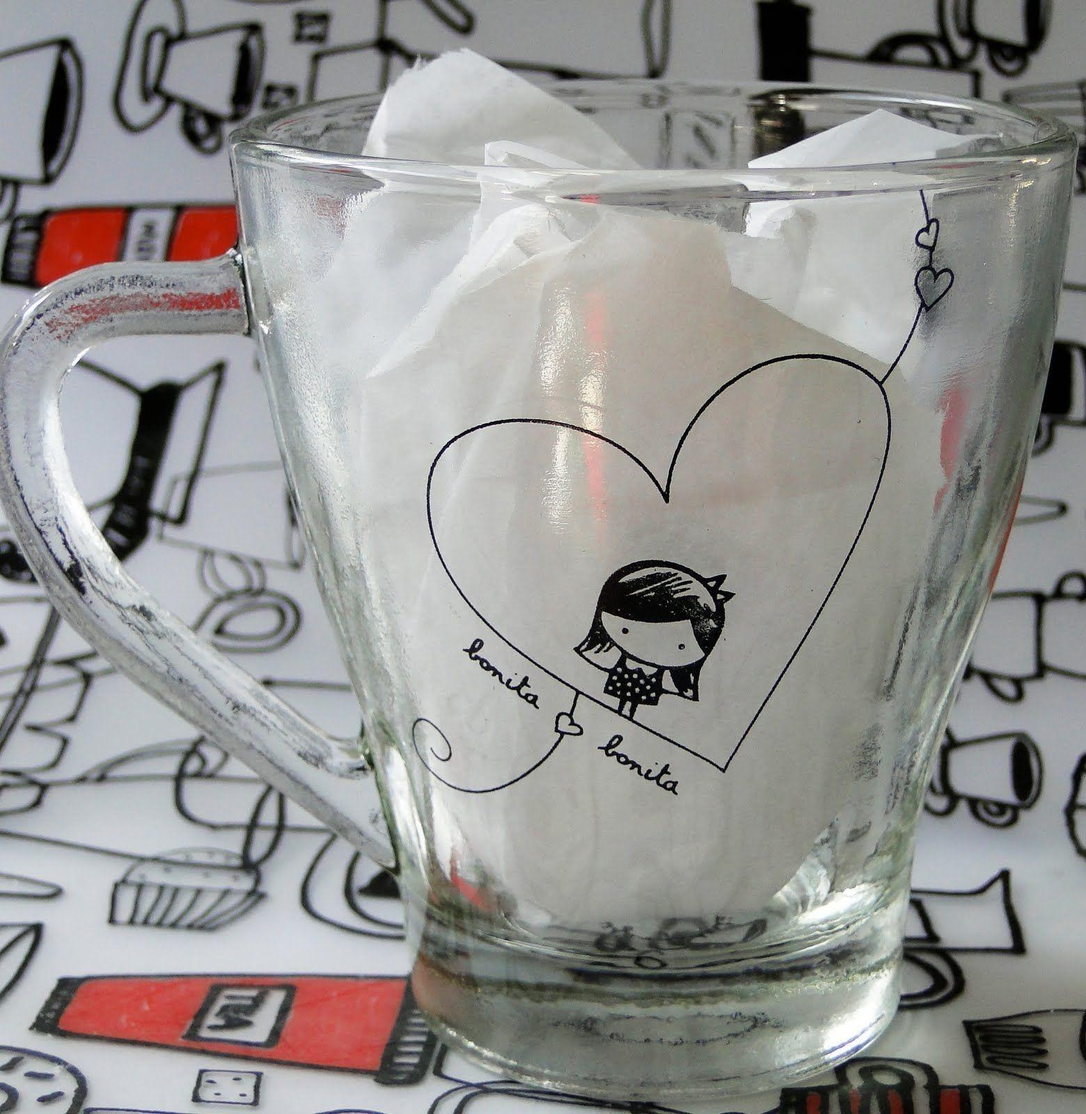glass-mug: (0, 63, 1085, 1098)
